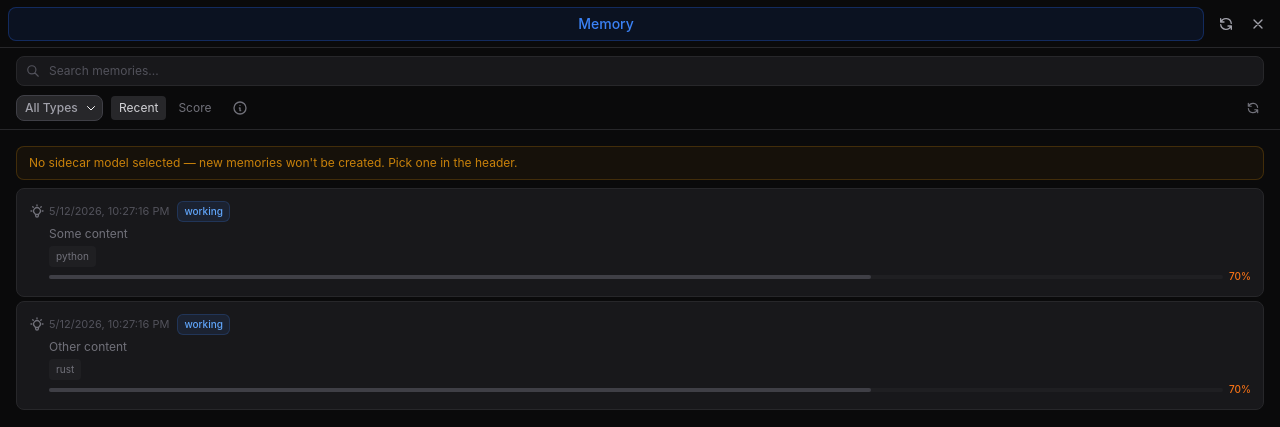
MemoryPanelV2 › Search with Tags › search matches tag content
This screenshot has width=1280, height=427.
Type "python" into the field with placeholder "Search memories..." at x=640, y=71, box [16, 56, 1264, 86]
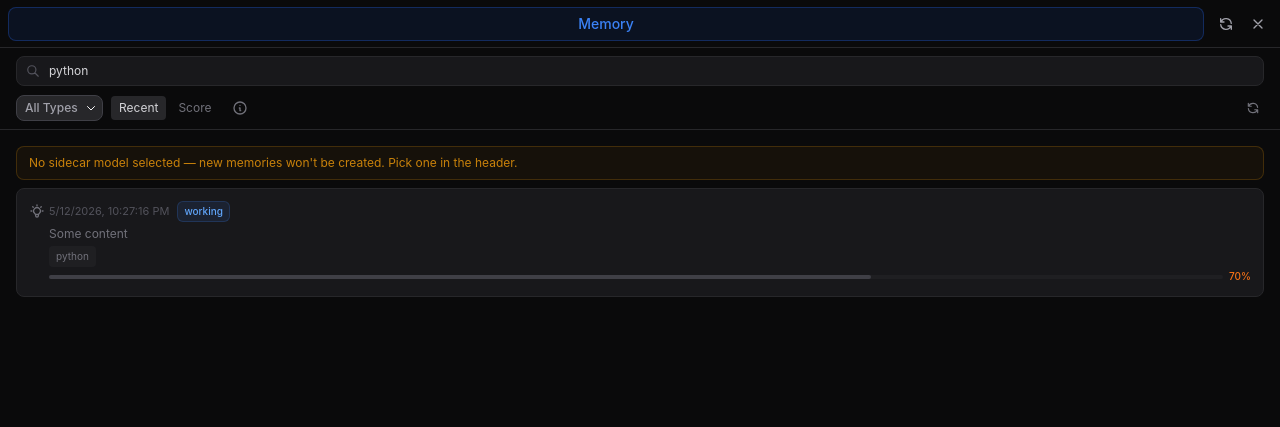
Expected: the text "Some content" is shown, [49, 226, 128, 241]
Expected: the text "Other content" is gone
